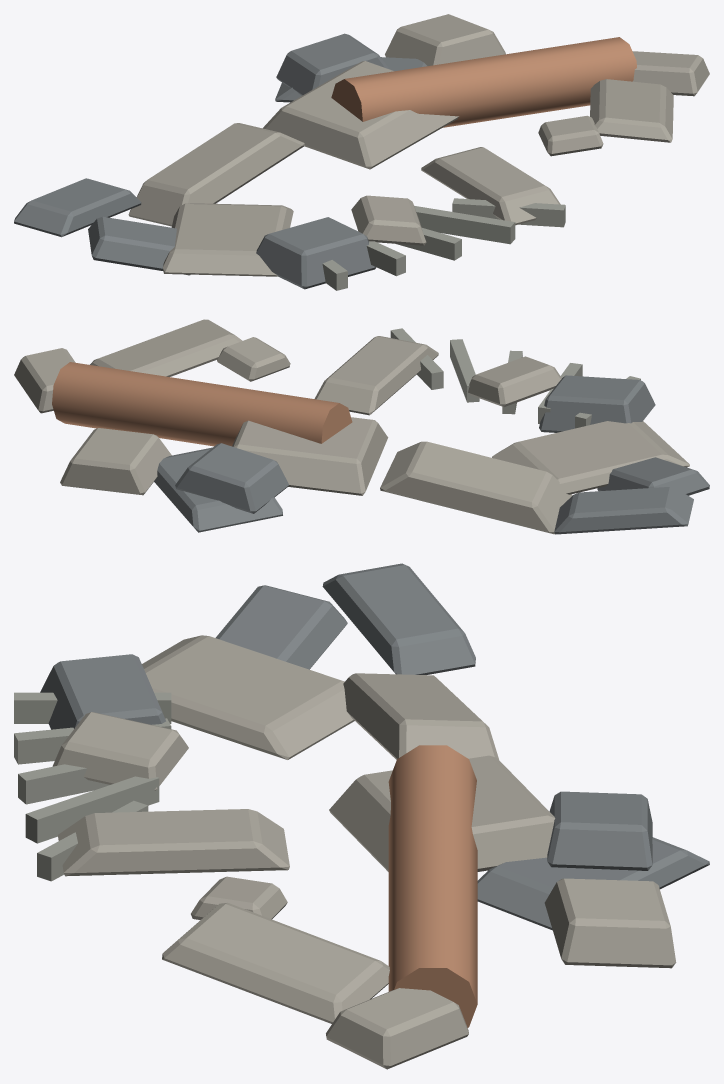
File: waste_road_debris.glb
3 renders of one model, top to bottom at view 1: azimuth 30°, elevation 25°; view 2: azimuth 150°, elevation 25°; view 3: azimuth 270°, elevation 25°, orthographic. The views are drawn at different scales.
Parts seen in each view (by area): view 1: rust, concrete.006, concrete.005, concrete.003, road.002, concrete.001, concrete.004, road.004, concrete.002, road.003, road, concrete.007 (+8 smaller); view 2: rust, concrete.005, concrete.003, concrete.006, road.004, concrete.002, concrete.001, road, road.002, concrete.004, road.001, concrete.007 (+6 smaller); view 3: rust, concrete.003, concrete.004, concrete.001, concrete.006, road.004, concrete.002, concrete.005, road, concrete, road.003, road.001 (+8 smaller).
Boxes of the visible parts, left/top/right/bottom form: rust: left=331, top=37, right=636, bottom=127; concrete.006: left=263, top=61, right=458, bottom=169; concrete.005: left=128, top=123, right=304, bottom=226; concrete.003: left=162, top=203, right=293, bottom=276; road.002: left=256, top=217, right=376, bottom=289; concrete.001: left=421, top=147, right=560, bottom=225; concrete.004: left=590, top=79, right=673, bottom=142; road.004: left=14, top=178, right=141, bottom=237; concrete.002: left=385, top=14, right=505, bottom=65; road.003: left=88, top=216, right=190, bottom=275; road: left=276, top=33, right=389, bottom=95; concrete.007: left=351, top=195, right=426, bottom=245; rust: left=52, top=362, right=352, bottom=446; concrete.005: left=380, top=441, right=572, bottom=534; concrete.003: left=492, top=421, right=689, bottom=494; concrete.006: left=232, top=417, right=388, bottom=495; road.004: left=554, top=487, right=693, bottom=534; concrete.002: left=60, top=428, right=171, bottom=495; concrete.001: left=314, top=336, right=438, bottom=415; road: left=175, top=443, right=288, bottom=513; road.002: left=539, top=375, right=655, bottom=432; concrete.004: left=90, top=319, right=242, bottom=376; road.001: left=154, top=447, right=282, bottom=532; concrete.007: left=466, top=356, right=561, bottom=406; rust: left=388, top=745, right=477, bottom=1027; concrete.003: left=142, top=635, right=354, bottom=759; concrete.004: left=162, top=903, right=389, bottom=1023; concrete.001: left=57, top=809, right=289, bottom=876; concrete.006: left=329, top=755, right=555, bottom=871; road.004: left=322, top=563, right=475, bottom=674; concrete.002: left=544, top=878, right=676, bottom=968; concrete.005: left=343, top=673, right=498, bottom=759; road: left=547, top=791, right=652, bottom=870; concrete: left=326, top=988, right=468, bottom=1069; road.003: left=215, top=585, right=347, bottom=669; road.001: left=477, top=837, right=709, bottom=930.
Bounding box in the file's own units: 4.25 × 0.4703 × 2.66.
